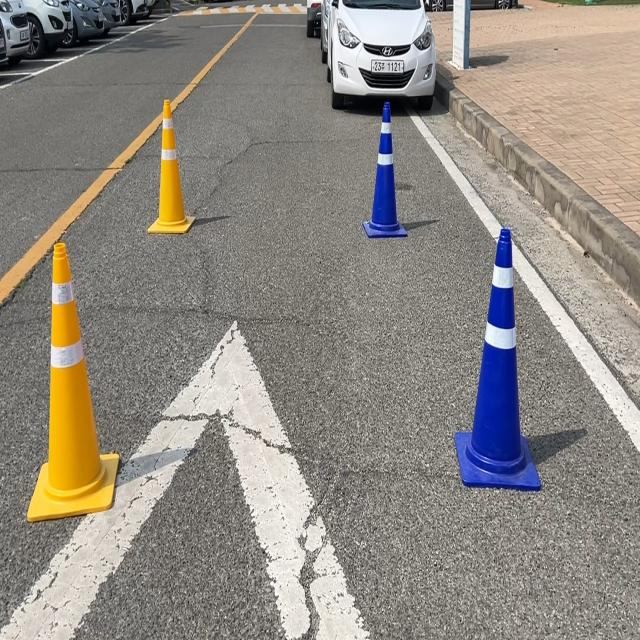b_rub: (455, 228, 541, 490), (363, 101, 408, 237)
y_rub: (26, 242, 118, 522), (148, 98, 195, 233)
